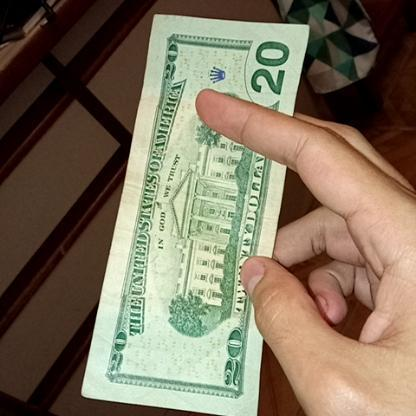twenty-back: (87, 10, 323, 408)
